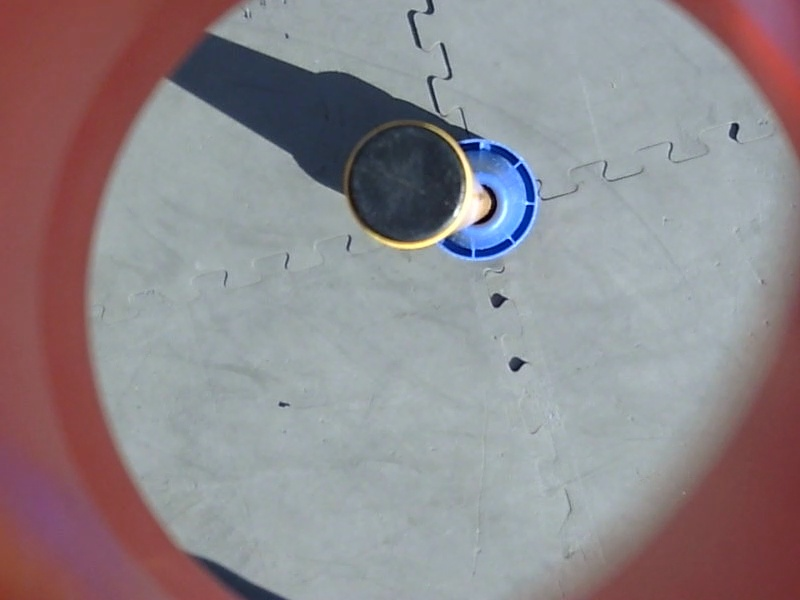tip: (339, 114, 477, 254)
